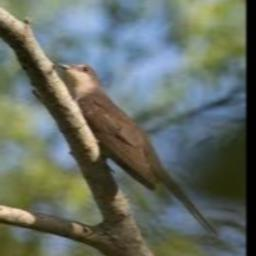Cuckoo: (56, 61, 217, 238)
